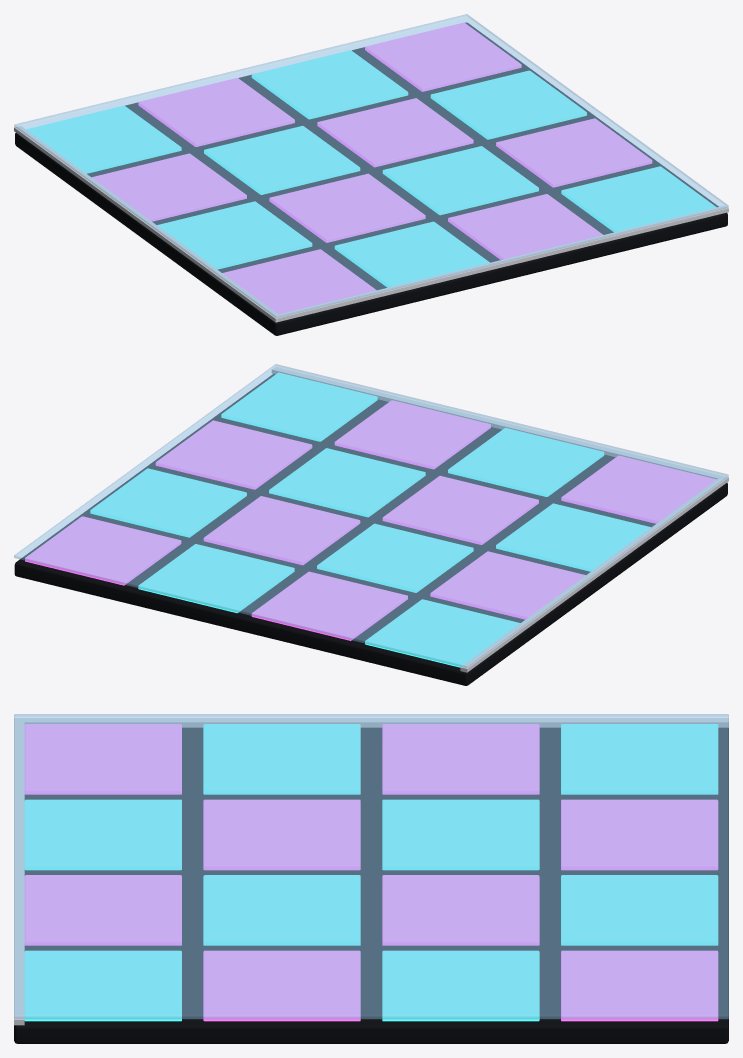
The model's file is floor_dance_grid.glb.
3 renders of one model, top to bottom at view 1: azimuth 30°, elevation 25°; view 2: azimuth 150°, elevation 25°; view 3: azimuth 270°, elevation 25°, orthographic. The views are drawn at different scales.
Visible parts, largest first — view 1: floor_dance_grid; view 2: floor_dance_grid; view 3: floor_dance_grid.
Part boxes in pixels (x1,y1,x2,y2): floor_dance_grid: (14, 14, 728, 335); floor_dance_grid: (14, 364, 728, 685); floor_dance_grid: (14, 714, 728, 1043).
Size of the model in its own units: 2 by 0.091 by 2.
